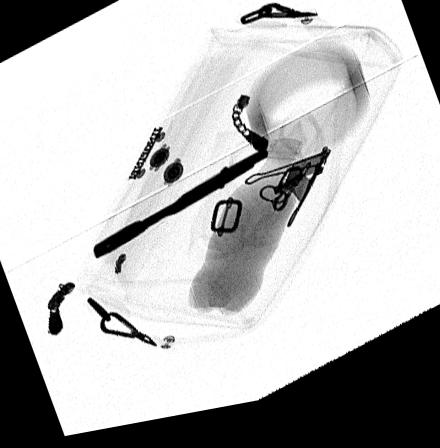Pliers: (92, 157, 271, 262)
